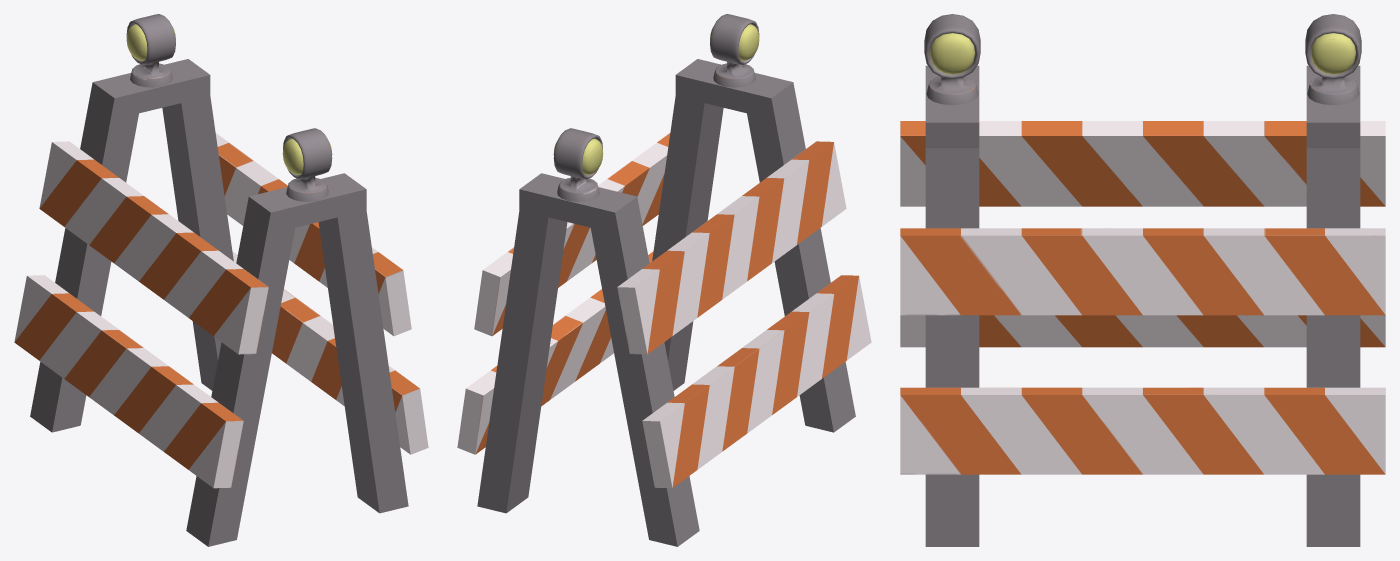
File: blockade.fbx
The picture shows the model from 3 angles, left to right: view 1: azimuth 30°, elevation 25°; view 2: azimuth 150°, elevation 25°; view 3: azimuth 270°, elevation 25°; orthographic projection. The views are drawn at different scales.
Parts seen in each view (by area): view 1: blockade; view 2: blockade; view 3: blockade.
Part boxes in pixels (x1=…): blockade: x1=14, y1=14, x2=428, y2=546; blockade: x1=457, y1=14, x2=871, y2=546; blockade: x1=900, y1=14, x2=1385, y2=546.
Size of the model in its own units: 95.05 by 164 by 152.
